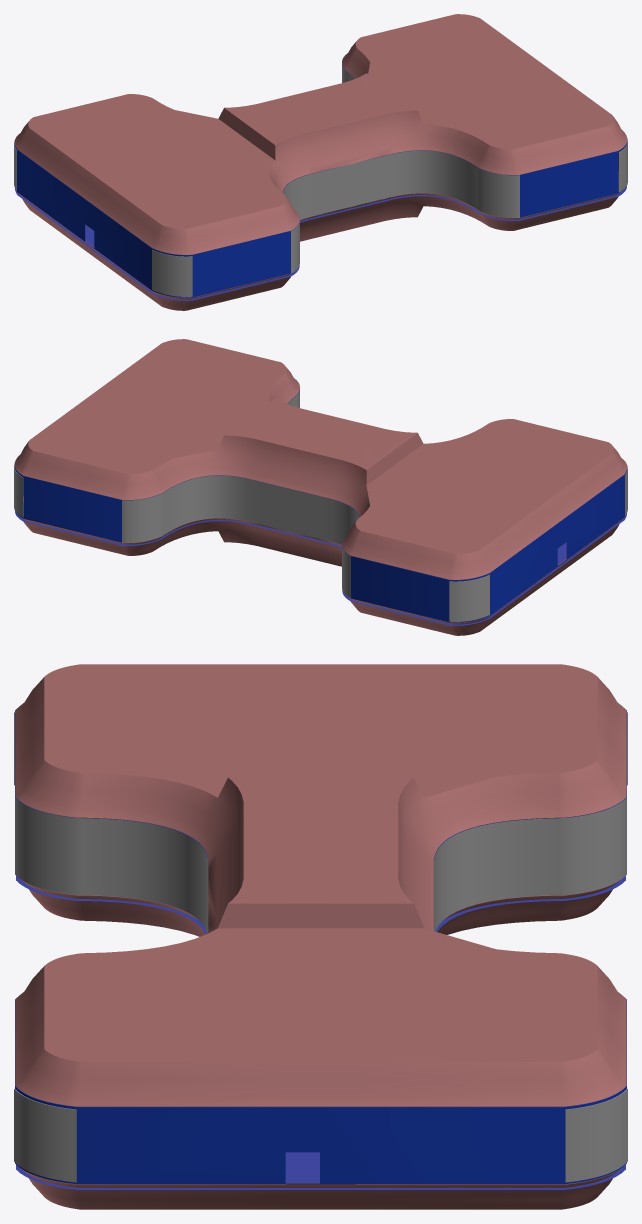
Rendered from SS Module 16.FBX.
The picture shows the model from 3 angles, top to bottom: view 1: azimuth 30°, elevation 25°; view 2: azimuth 150°, elevation 25°; view 3: azimuth 270°, elevation 25°; orthographic projection. The views are drawn at different scales.
Parts seen in each view (by area): view 1: Plane089, Floor11; view 2: Plane089, Floor11; view 3: Plane089, Floor11.
Boxes of the visible parts, x1,y1,x2,y2 form: Plane089: [14, 14, 627, 310]; Floor11: [15, 177, 626, 300]; Plane089: [14, 339, 627, 635]; Floor11: [15, 502, 626, 625]; Plane089: [14, 664, 627, 1209]; Floor11: [16, 876, 625, 1189].
Size of the model in its own units: 115 by 24.8 by 71.54.
